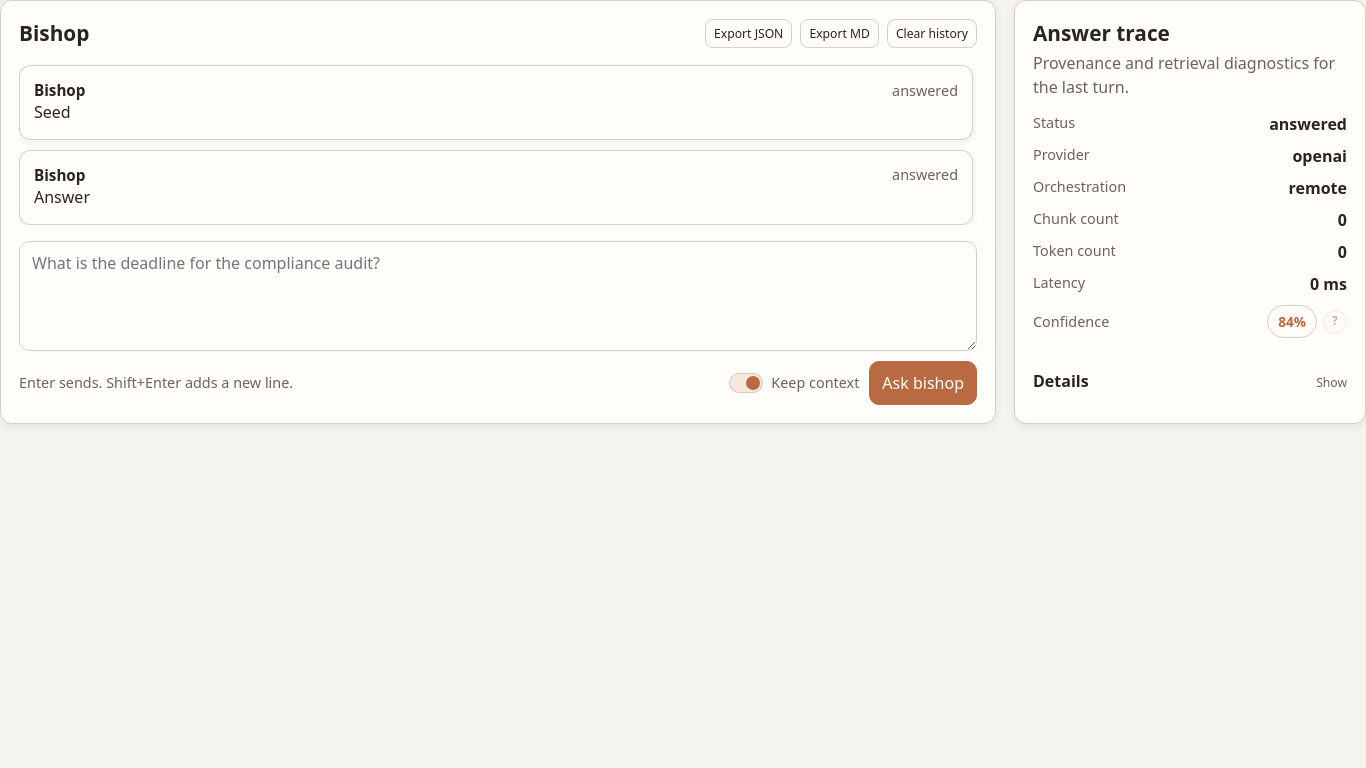
Test: BishopPanel confidence trace › toggles the sources list from the Details header
Click the button "Show": coordinates (1332, 383) [1316, 376, 1347, 390]
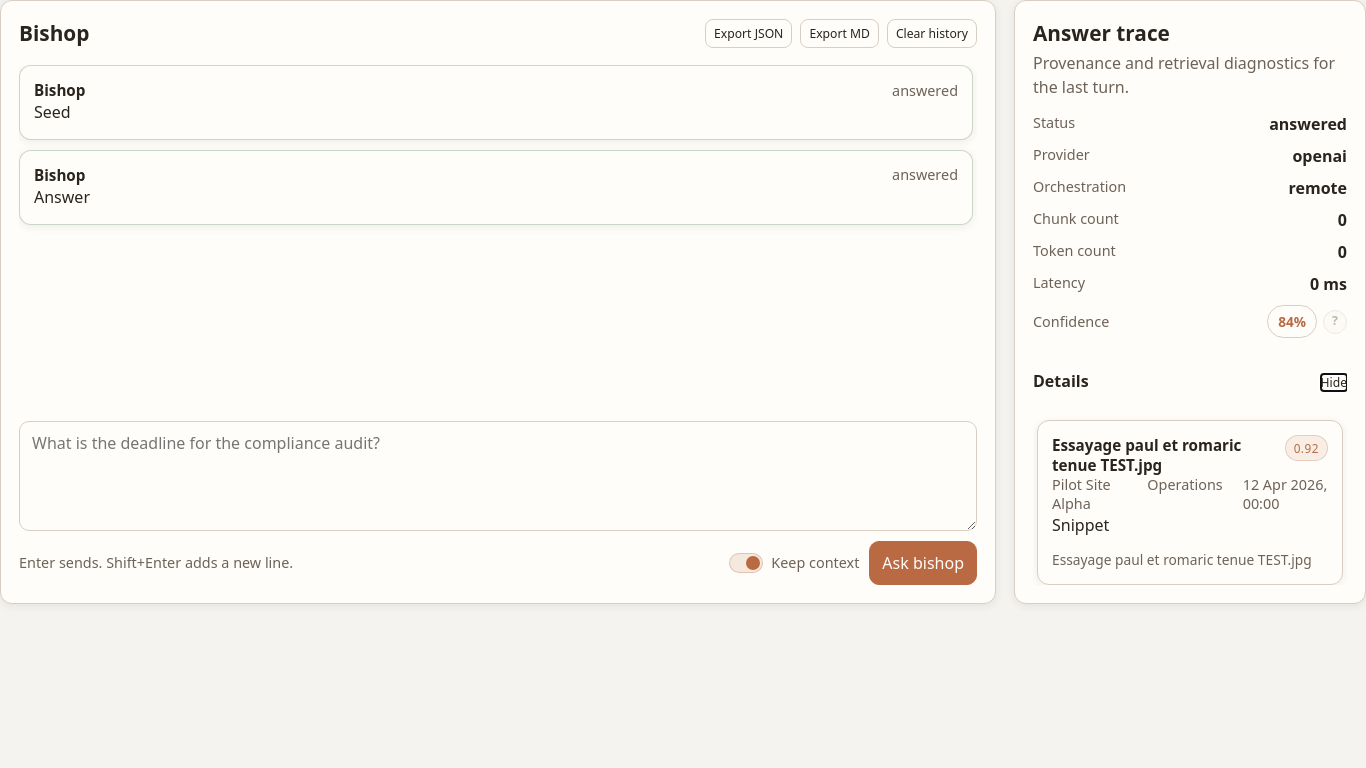
Now the button "Hide" is shown, box [1320, 376, 1347, 390]
Now the button titled "/Shared Documents/Essayage paul et romaric tenue TEST.jpg" is shown, box [1052, 550, 1312, 569]
